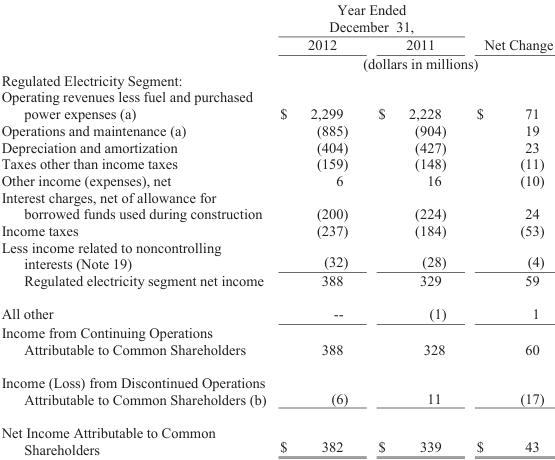table: (0, 1, 552, 457)
table column: (0, 1, 272, 457), (362, 1, 460, 457), (460, 1, 552, 457), (272, 1, 362, 457)
table column header: (0, 1, 552, 71)
table projected row header: (0, 71, 552, 88)
table row: (0, 365, 552, 415), (0, 322, 552, 365), (0, 415, 552, 457), (0, 1, 552, 35), (0, 88, 552, 121), (0, 188, 552, 221), (0, 238, 552, 271), (0, 296, 552, 322), (0, 271, 552, 296), (0, 35, 552, 53), (0, 53, 552, 71), (0, 71, 552, 88), (0, 121, 552, 138), (0, 154, 552, 171), (0, 171, 552, 188), (0, 221, 552, 238), (0, 138, 552, 154)
table spanning cell: (272, 1, 460, 35), (272, 53, 552, 71), (460, 1, 552, 53)
